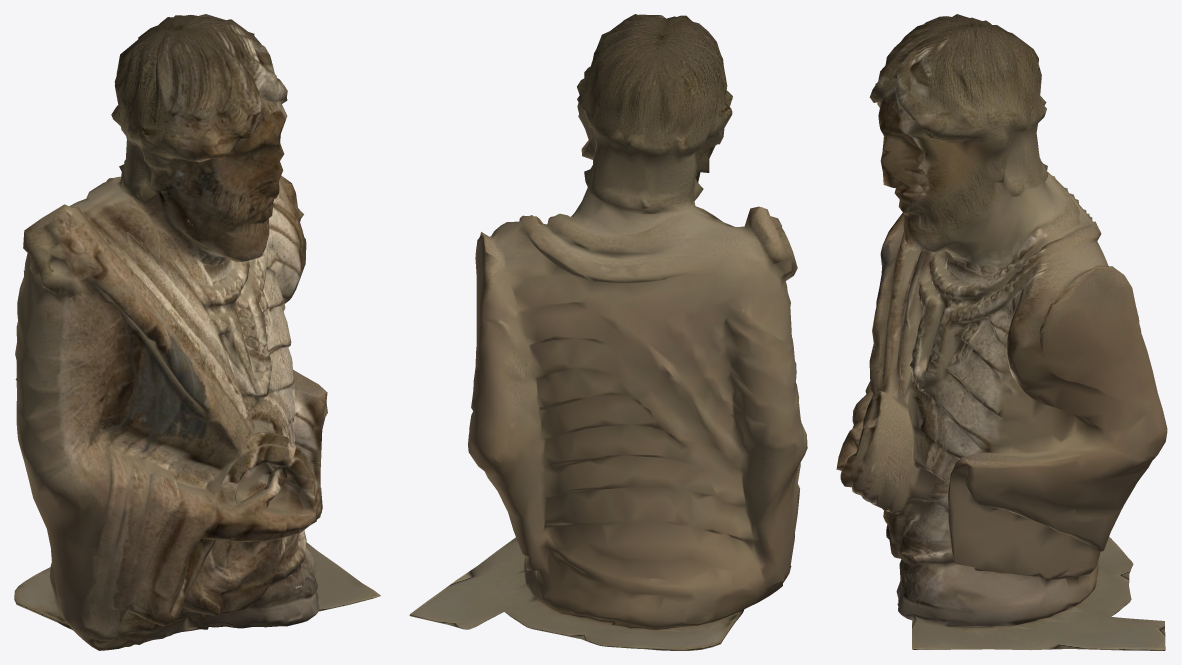
The picture shows the model from 3 angles, left to right: view 1: azimuth 30°, elevation 25°; view 2: azimuth 150°, elevation 25°; view 3: azimuth 270°, elevation 25°; orthographic projection. The views are drawn at different scales.
Parts seen in each view (by area): view 1: Mesh; view 2: Mesh; view 3: Mesh.
Boxes of the visible parts, left/top/right/bottom form: Mesh: left=14, top=14, right=380, bottom=650; Mesh: left=409, top=14, right=807, bottom=650; Mesh: left=836, top=14, right=1167, bottom=650.
Size of the model in its own units: 0.4284 by 0.762 by 0.4115.
Materials: 1 (1 with a texture image).
